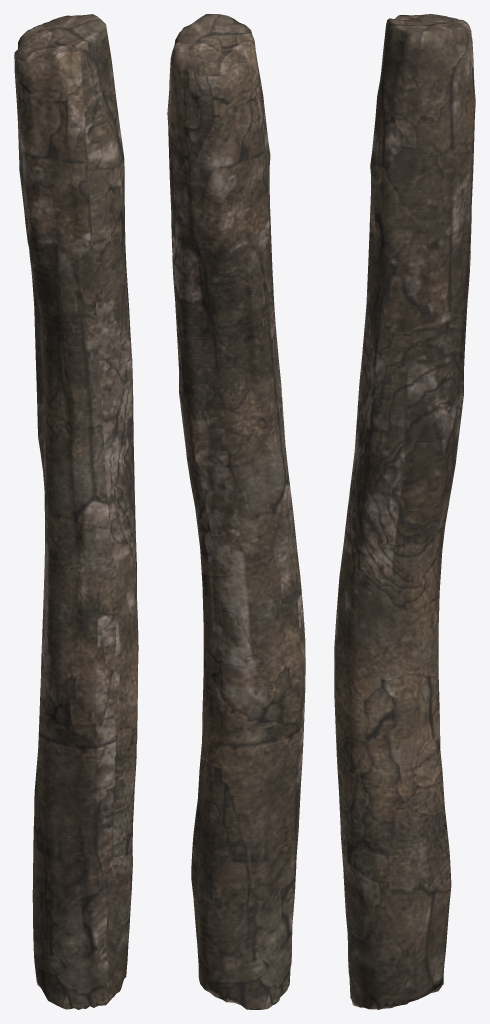
File: SM_Log_D.fbx
3 views of the same model, side by side, from view 1: azimuth 90°, elevation 25°; view 2: azimuth 150°, elevation 25°; view 3: azimuth 330°, elevation 25° (orthographic). The views are drawn at different scales.
Visible parts, largest first — view 1: SM_Log_D_LOD0; view 2: SM_Log_D_LOD0; view 3: SM_Log_D_LOD0.
Boxes of the visible parts, box(x1,y1,x2,y2) form: SM_Log_D_LOD0: box(14, 14, 138, 1009); SM_Log_D_LOD0: box(167, 14, 305, 1009); SM_Log_D_LOD0: box(334, 14, 475, 1009).
Bounding box in the file's own units: 38.68 × 36.3 × 309.
Materials: 1 (1 with a texture image).
